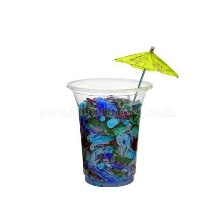glass: (60, 72, 155, 190)
